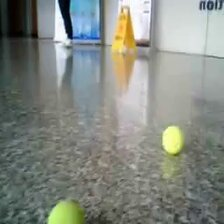tennis: (162, 125, 185, 156)
